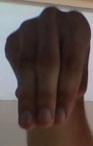M: (2, 0, 93, 134)
